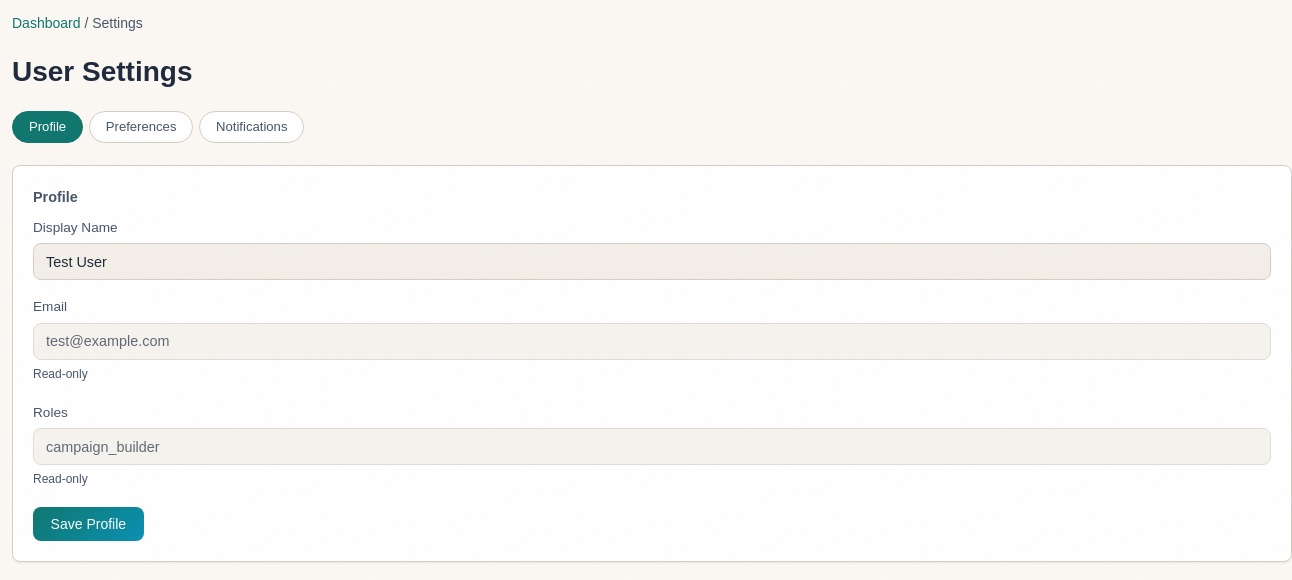
Test case: UserSettings – tab scaffold › switches to Notifications tab on click
This screenshot has width=1292, height=580.
Expected: the heading "User Settings" is shown, [12, 50, 192, 95]
Click the tab "Notifications": (252, 127) [199, 111, 304, 143]
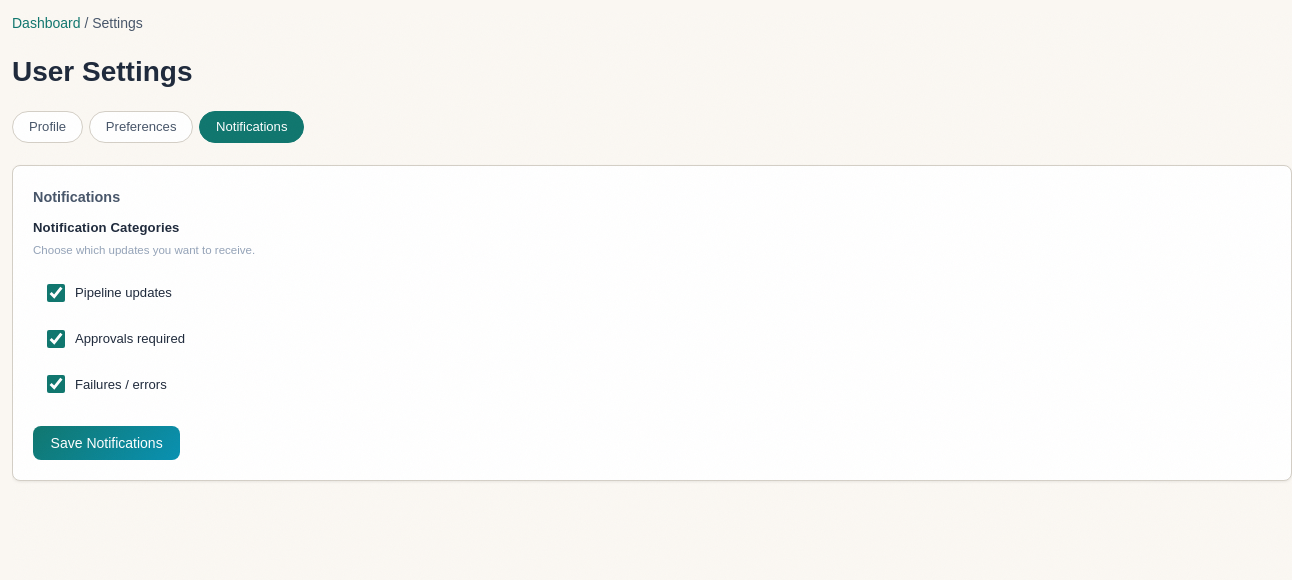
Result: the element with test id "tab-notifications" is shown at [33, 189, 255, 460]
Result: the element with test id "tab-profile" is gone
